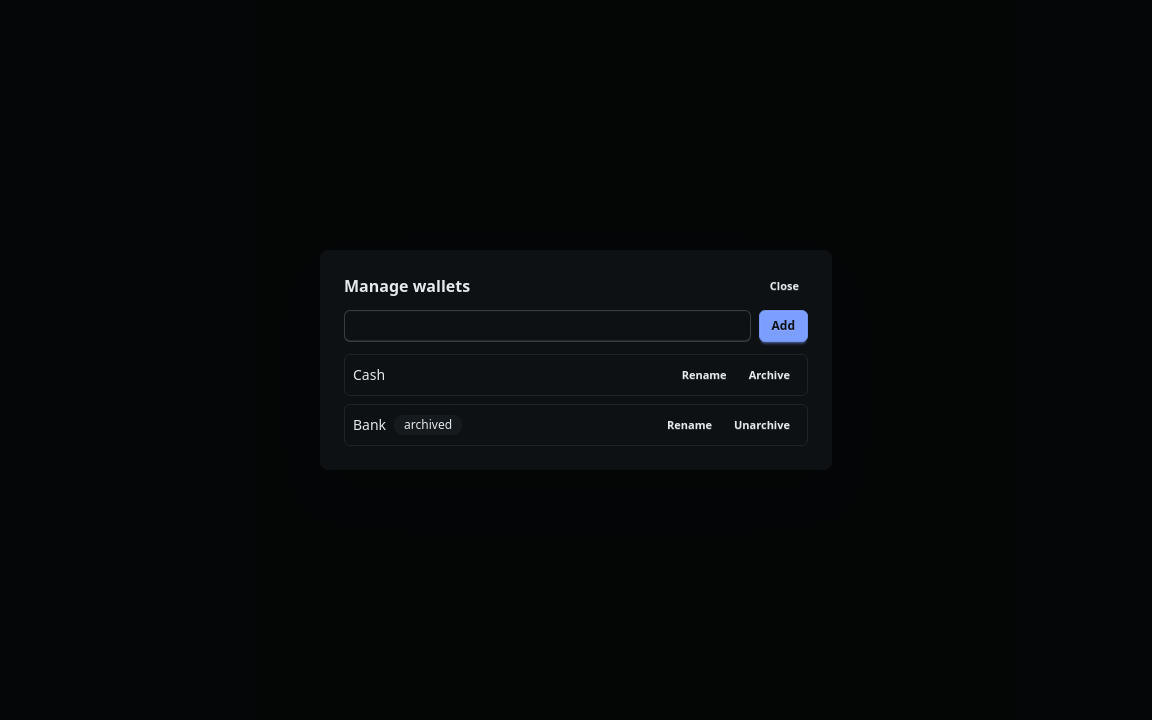
Scenario: WalletsModal › shows the server errors when a rename or archive fails
Click the button "Rename" in the row of "Cash" at point(704, 375), box [673,363,736,387]
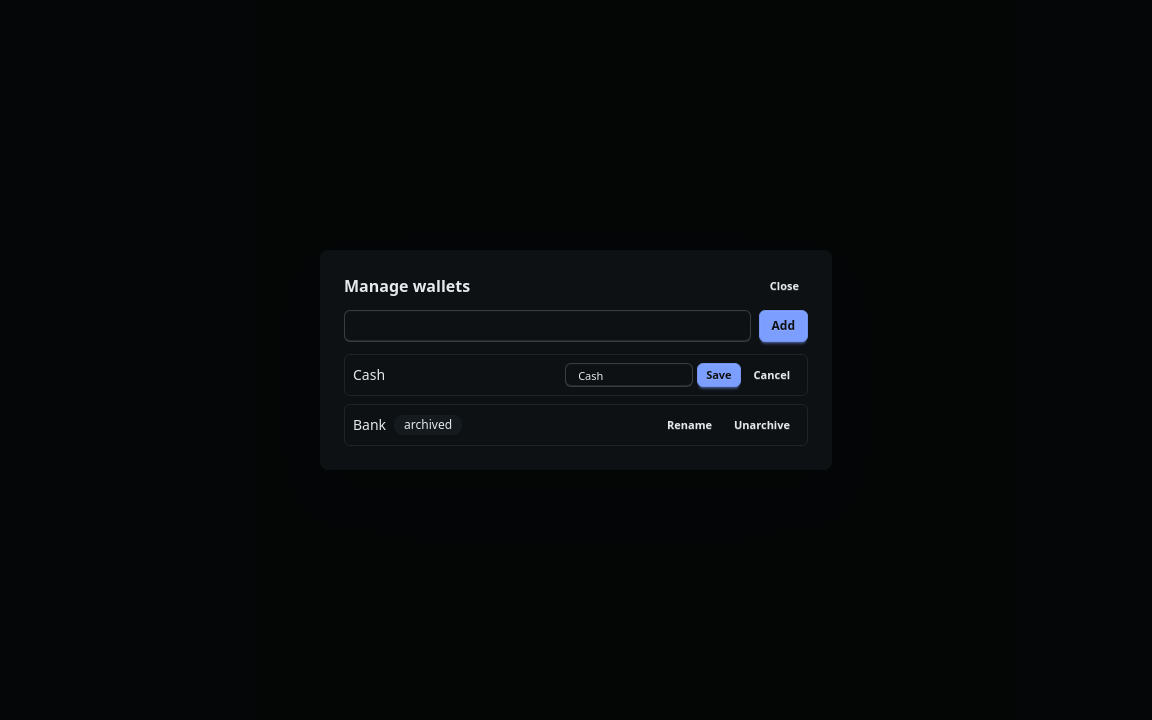
Click the button "Save" at point(719, 375), box [697,363,741,387]
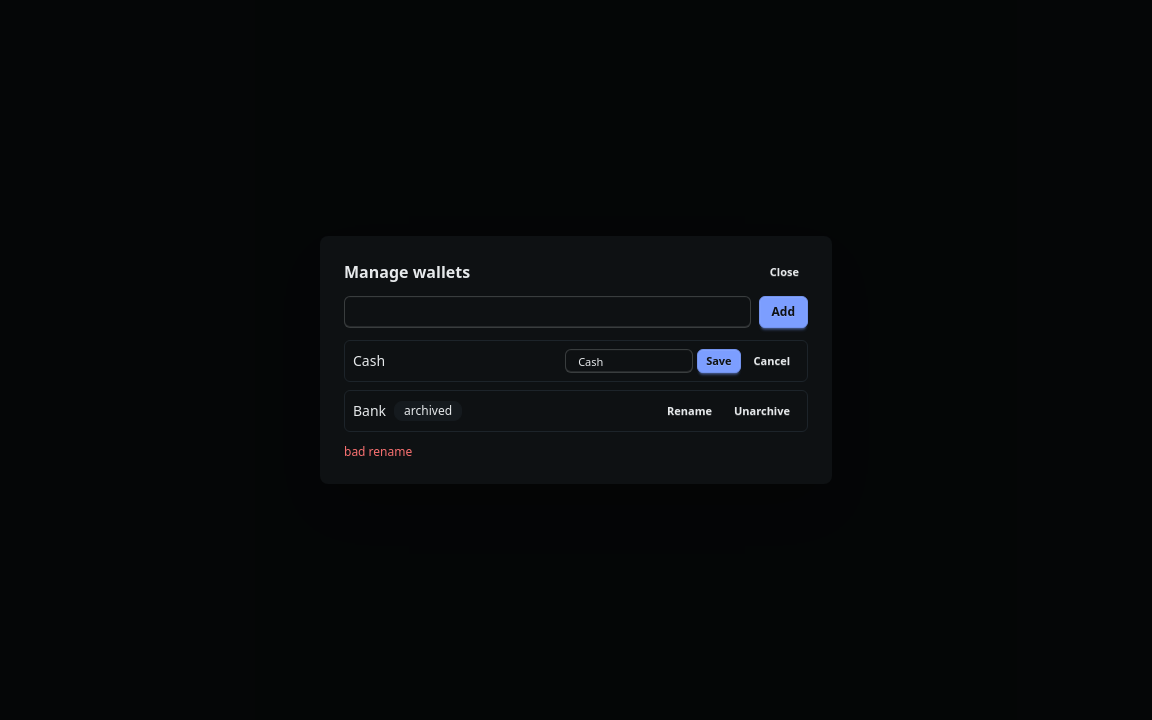
expect the message reads "bad rename": met, box [344,443,412,460]
Click the button "Cancel" at point(772, 361), box [745,349,799,373]
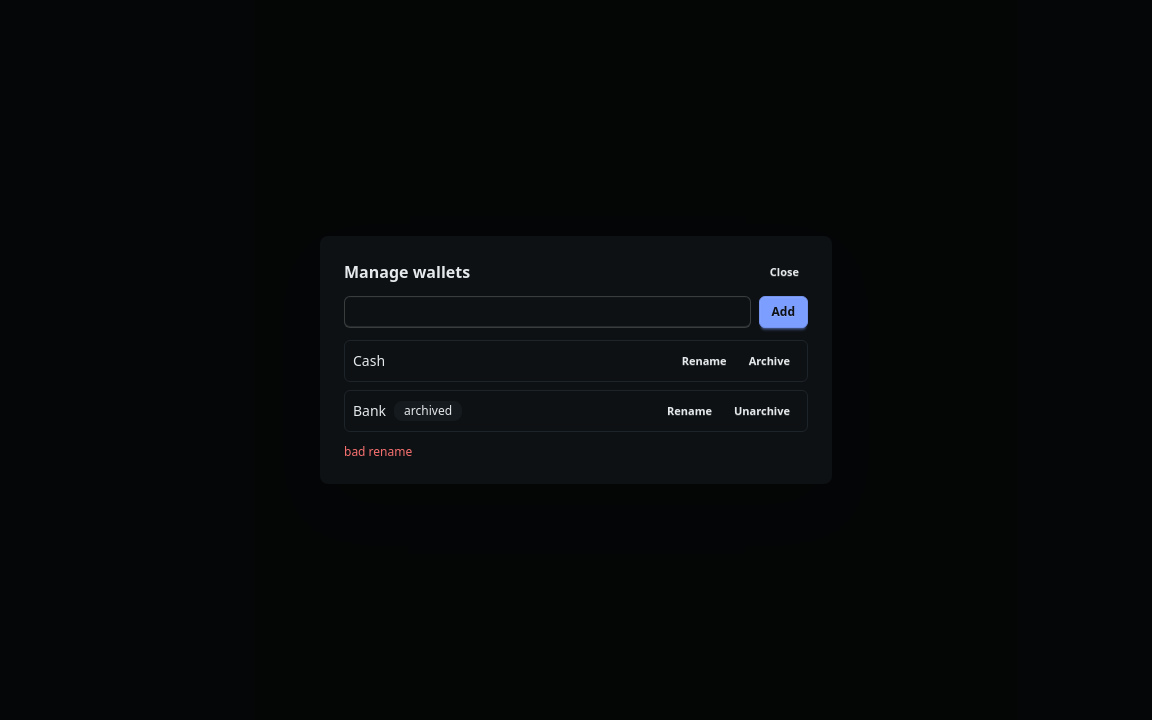
Click the button "Archive" at point(769, 361), box [740,349,799,373]
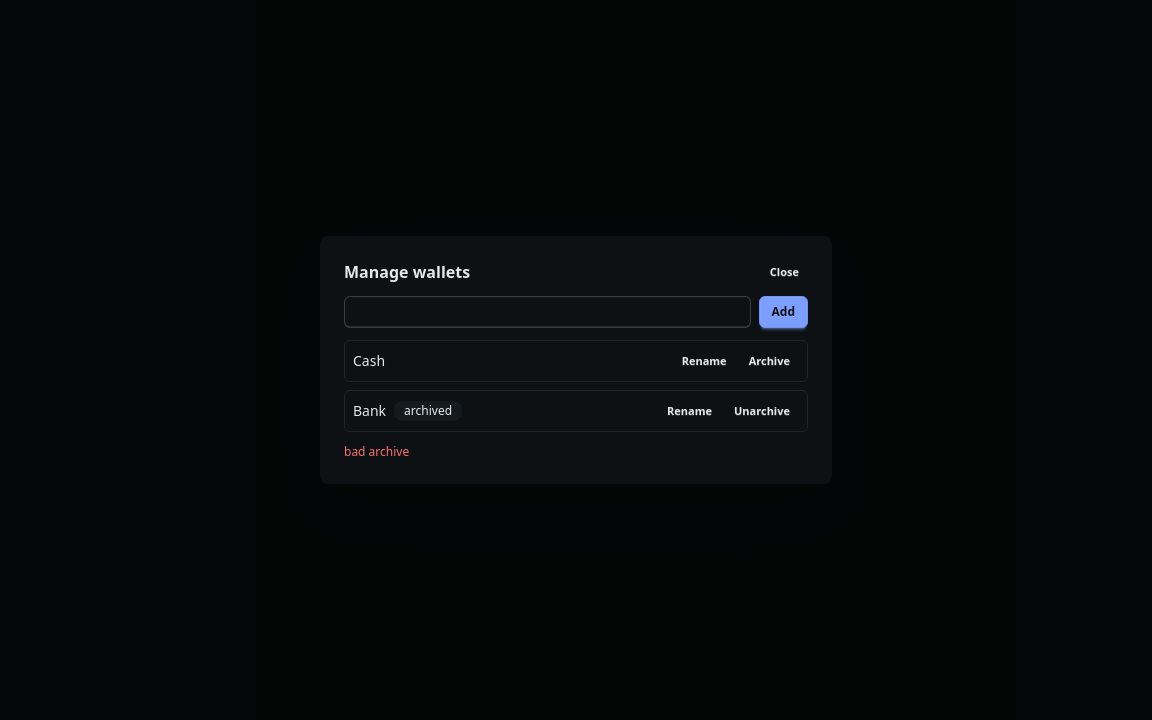
expect the message reads "bad archive": met, box [344,443,409,460]
